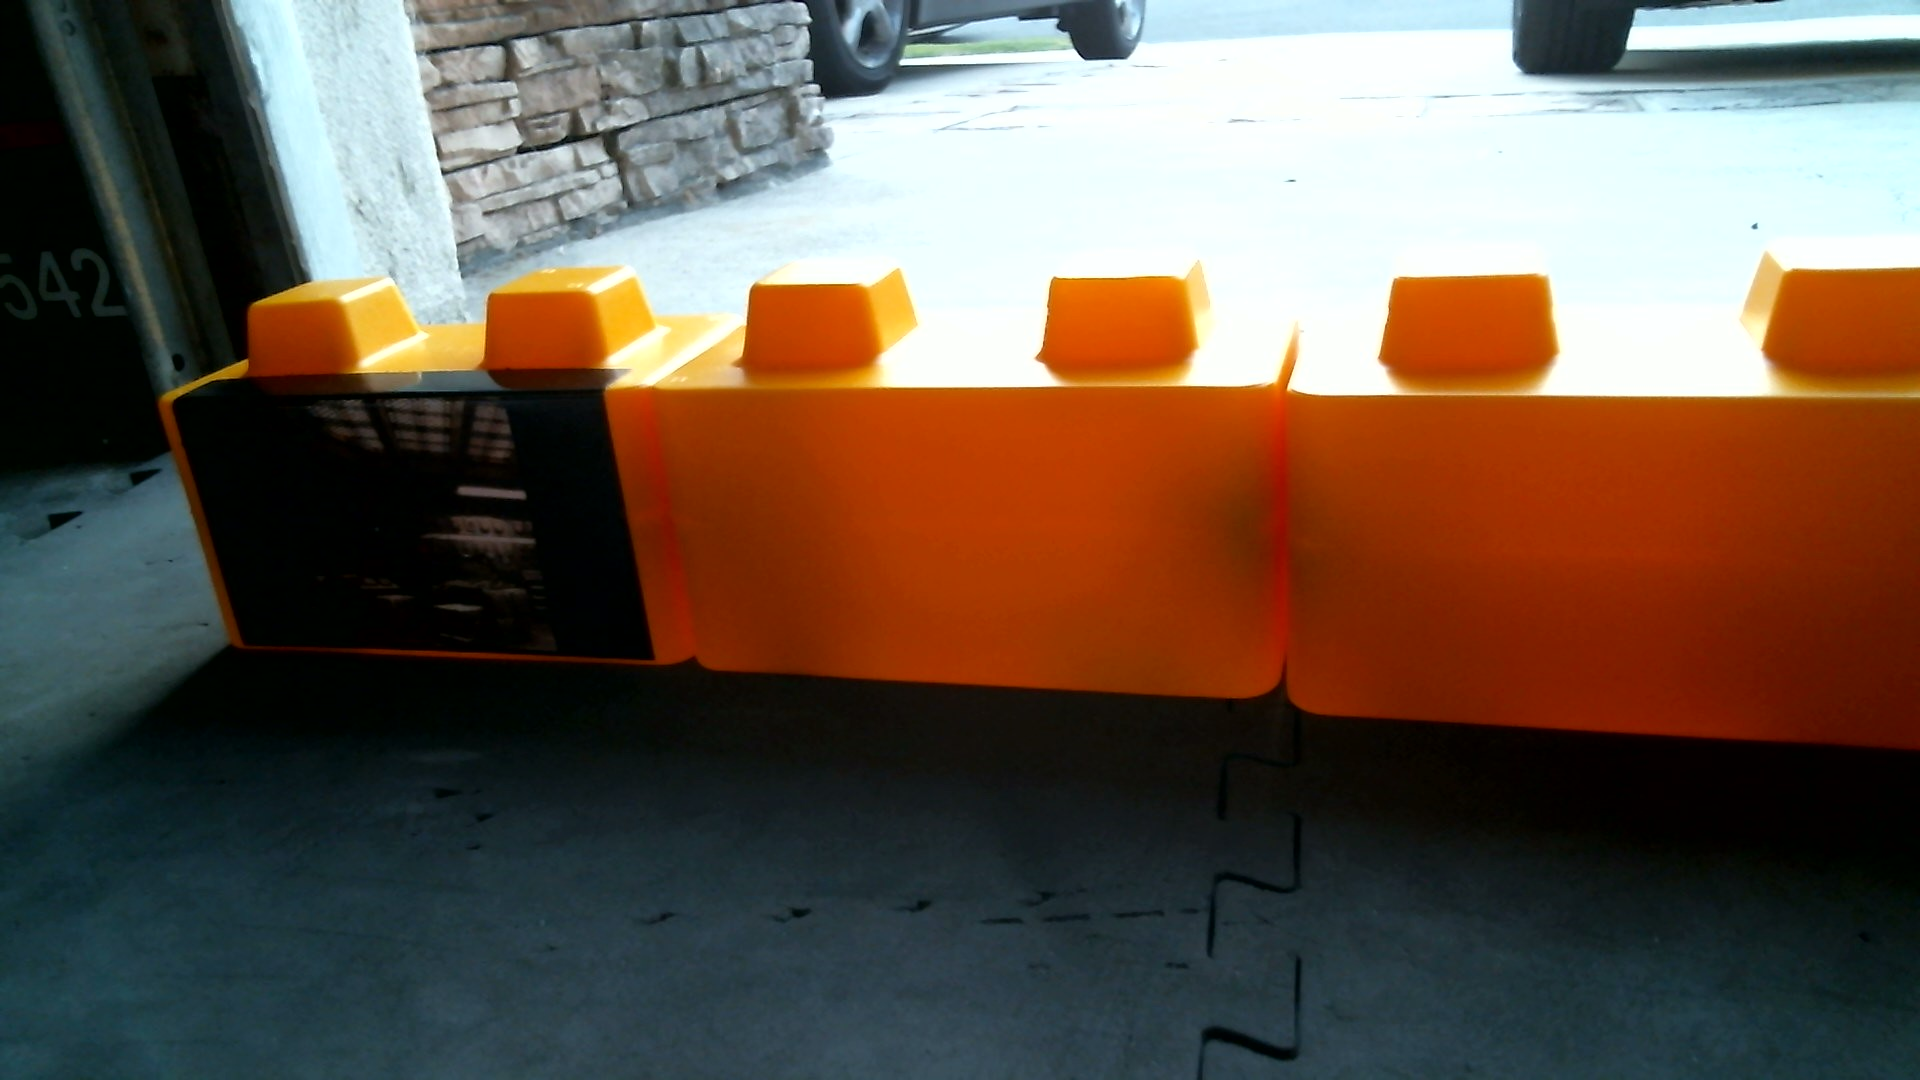left: (144, 268, 1920, 728)
